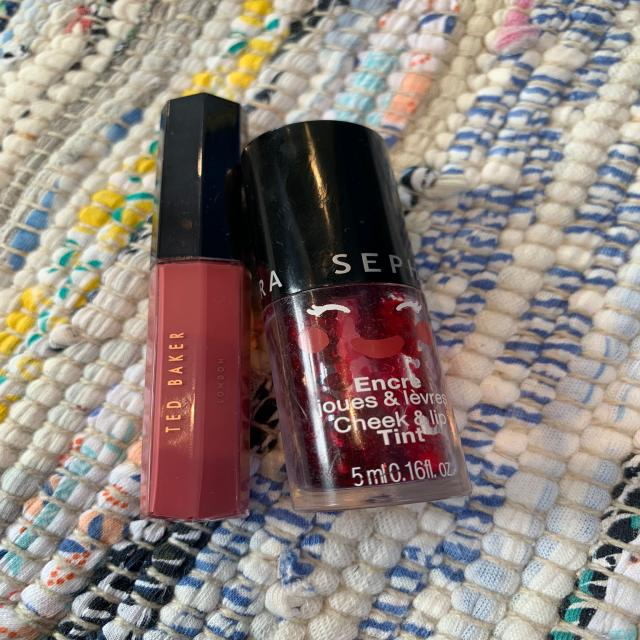Tint: (251, 121, 464, 511)
lip gloss: (138, 93, 252, 526)
